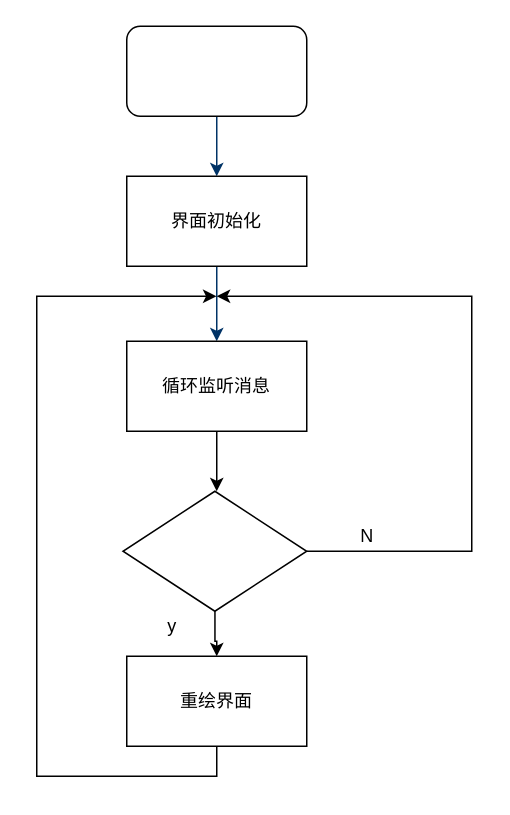
Image size: 510x815. Some labels were removed from this diagram. The centre of each missing label's shape, as x and y in pixels:
"开始" goes at point 216,70.
"有无WM_KEYDOWN" goes at point 214,550.
